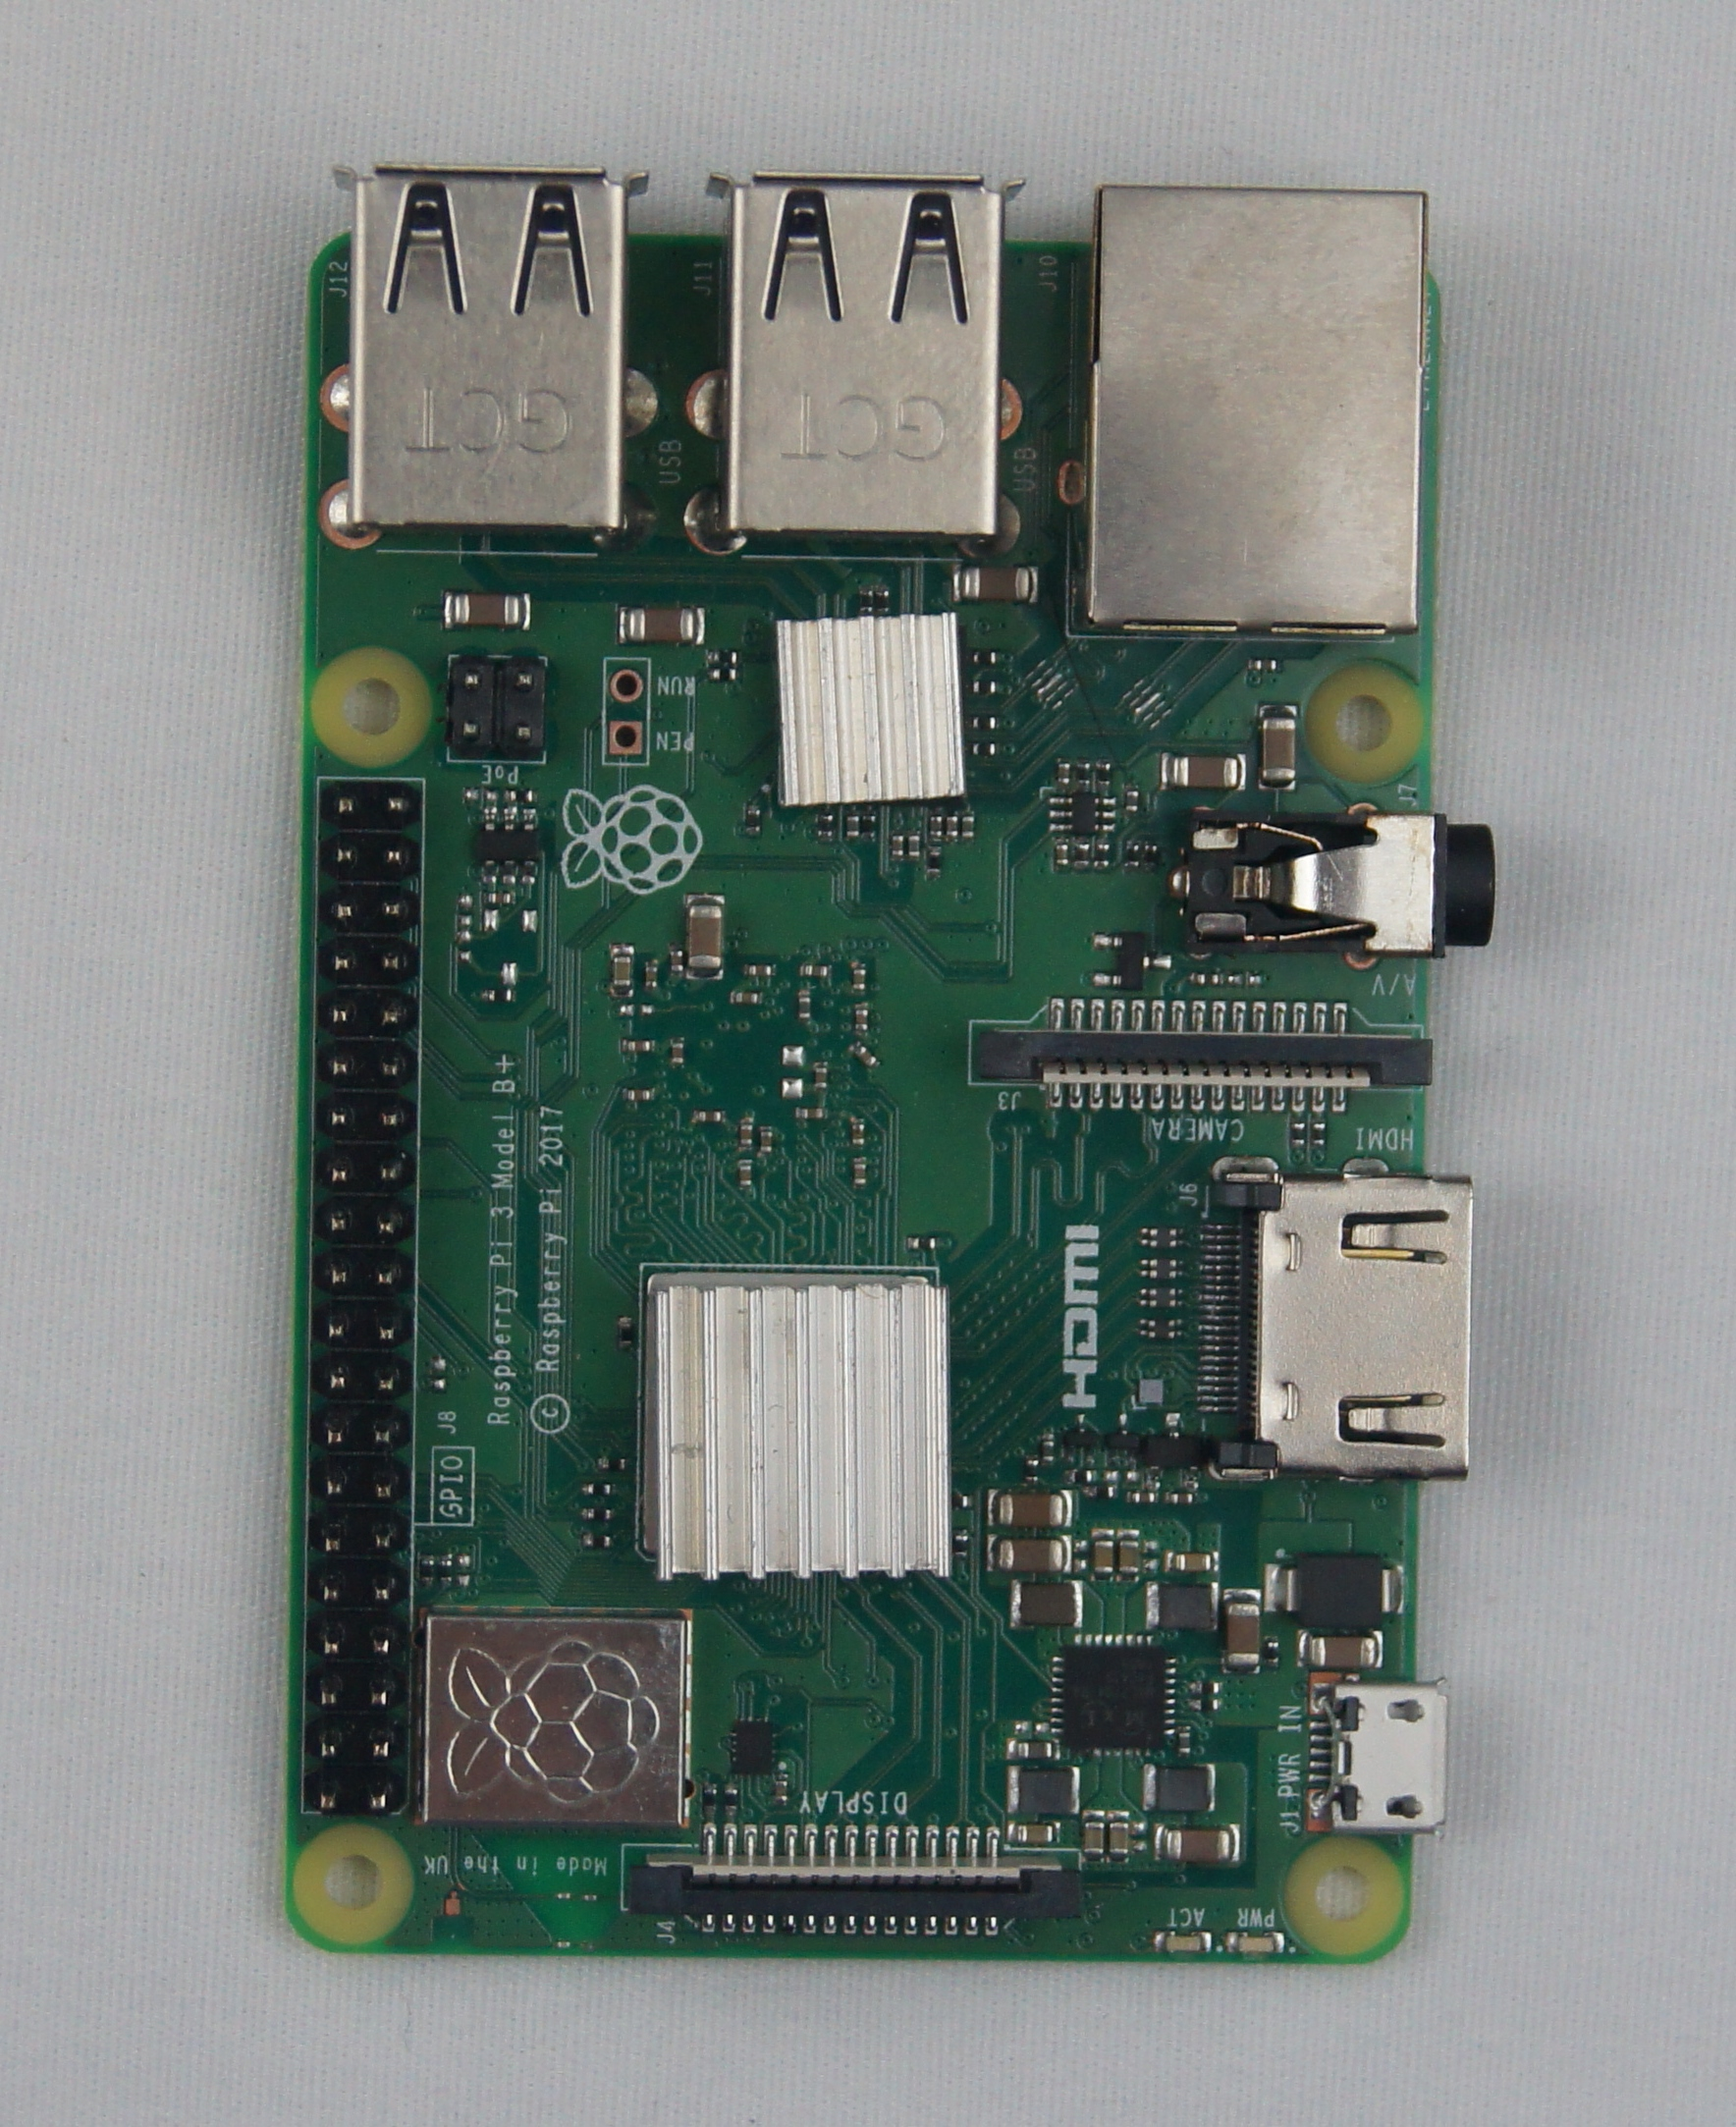Induktor: (1151, 1763, 1211, 1813), (1015, 1767, 1074, 1814), (1017, 1581, 1076, 1625), (1159, 1583, 1213, 1627), (1141, 1258, 1185, 1277), (1143, 1228, 1181, 1249), (1141, 1288, 1181, 1306), (1141, 1320, 1181, 1336)
